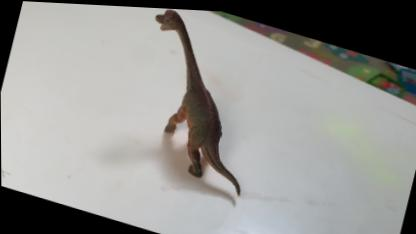brontosaurus: (117, 5, 282, 197)
